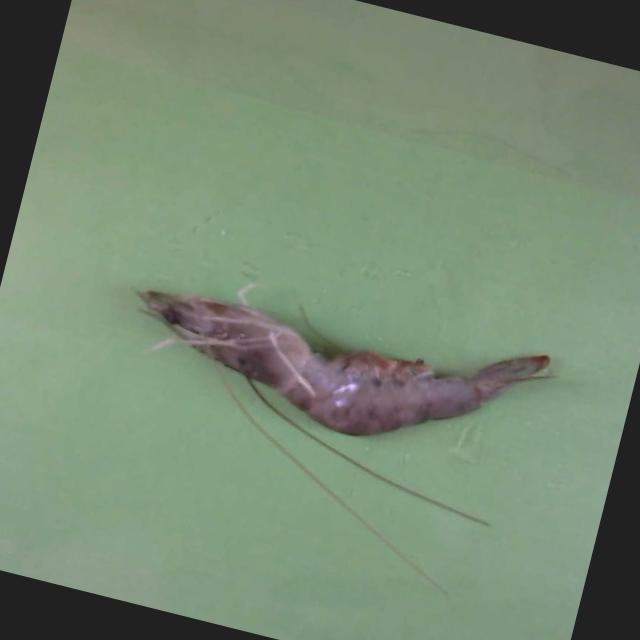shrimp: (138, 290, 549, 434)
